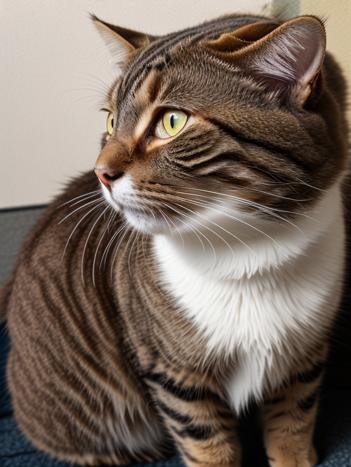cat: (1, 14, 350, 467)
